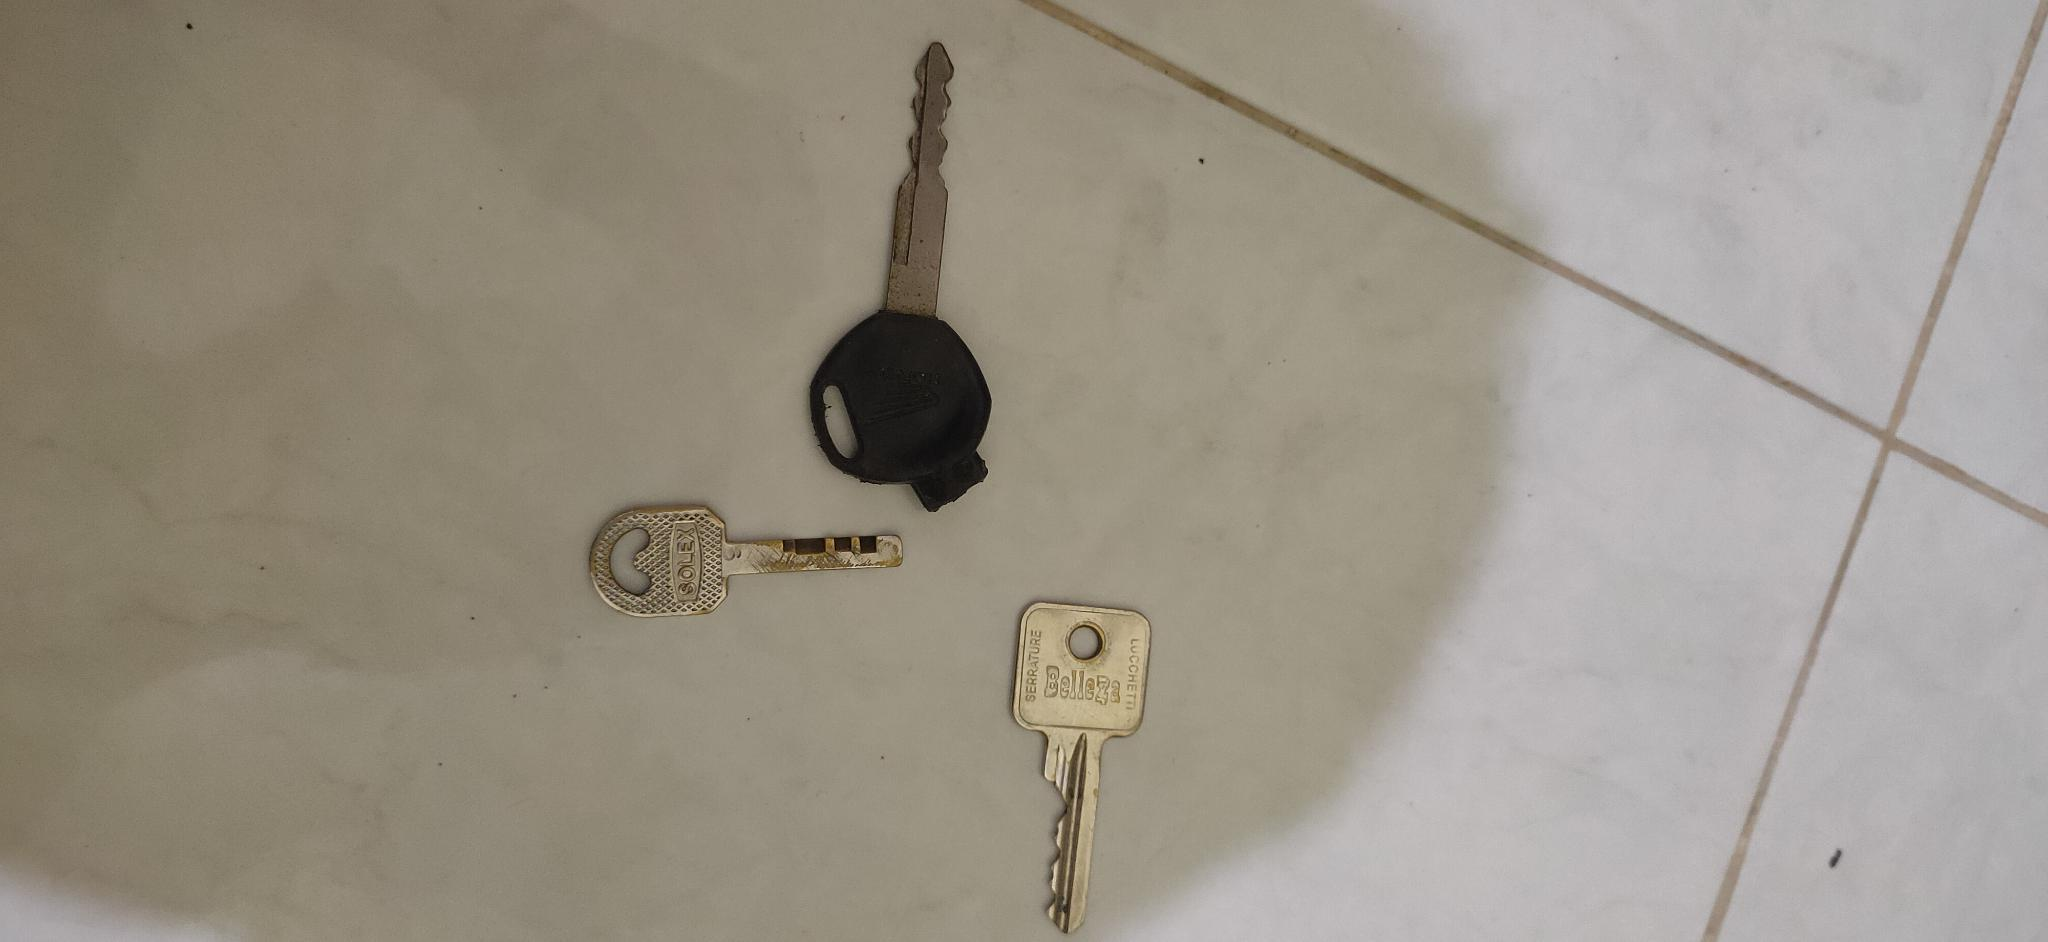keys: (799, 34, 997, 517), (1006, 587, 1164, 934), (573, 500, 908, 627)
